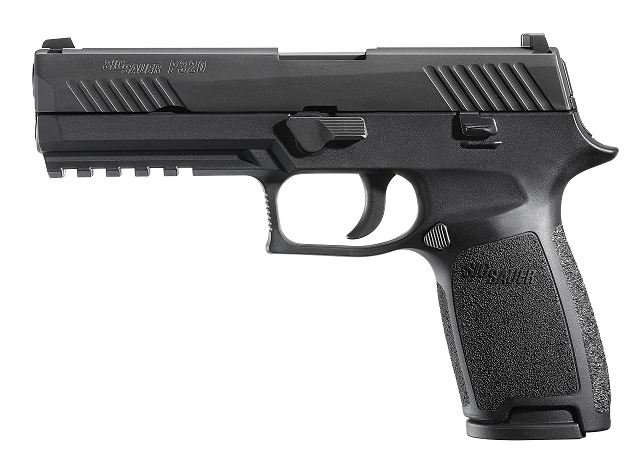gun: (26, 28, 619, 445)
